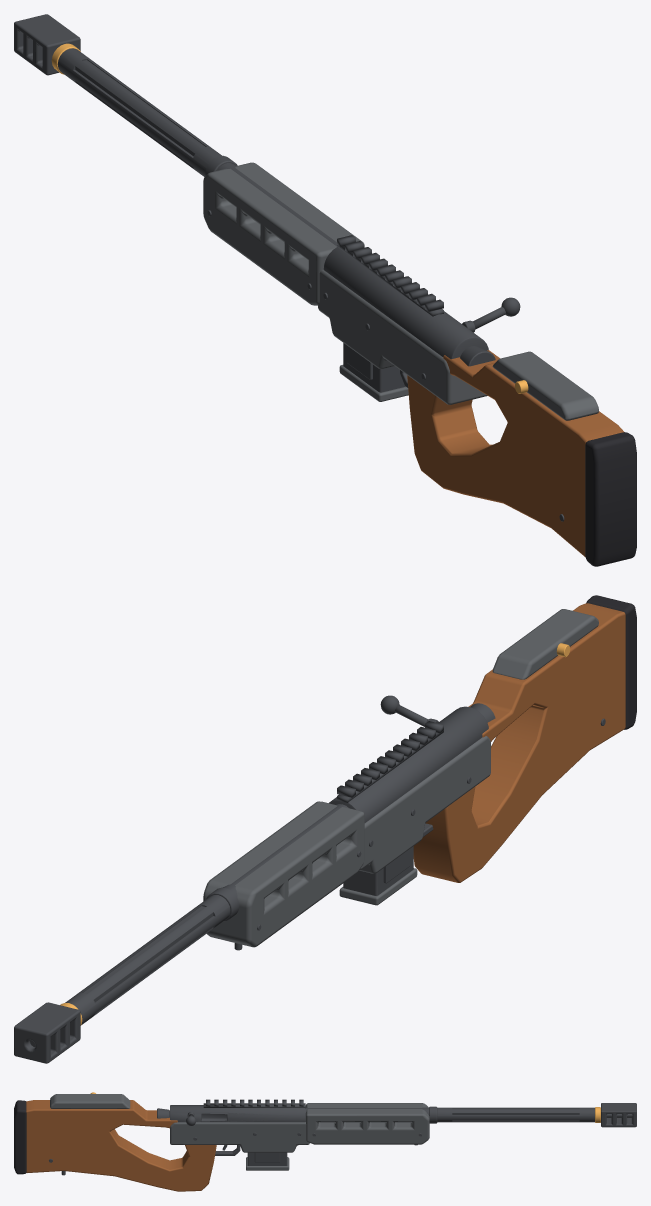
File: longbow.glb
3 views of the same model, one above another, from view 1: azimuth 30°, elevation 25°; view 2: azimuth 150°, elevation 25°; view 3: azimuth 270°, elevation 25° (orthographic). The views are drawn at different scales.
Parts seen in each view (by area): view 1: stock.002, handguard, chassis, buttpad, barrel.002, action, cheekrest, brake.001, rail, mag.001; view 2: stock.002, handguard, chassis, barrel.002, action, cheekrest, brake.001, mag.001, rail, buttpad; view 3: stock.002, handguard, chassis, barrel.002, action, cheekrest, buttpad, brake.001, mag.001, rail.
Part boxes in pixels (x1=…): stock.002: x1=407, y1=350, x2=623, y2=556; handguard: x1=203, y1=162, x2=364, y2=305; chassis: x1=318, y1=269, x2=487, y2=404; buttpad: x1=585, y1=432, x2=636, y2=566; barrel.002: x1=57, y1=48, x2=336, y2=246; action: x1=323, y1=247, x2=488, y2=359; cheekrest: x1=492, y1=351, x2=598, y2=420; brake.001: x1=14, y1=14, x2=80, y2=75; rail: x1=337, y1=235, x2=443, y2=316; mag.001: x1=339, y1=343, x2=408, y2=401; stock.002: x1=413, y1=603, x2=625, y2=882; handguard: x1=203, y1=801, x2=364, y2=947; chassis: x1=359, y1=736, x2=490, y2=873; barrel.002: x1=65, y1=804, x2=348, y2=1024; action: x1=329, y1=706, x2=488, y2=822; cheekrest: x1=492, y1=609, x2=598, y2=679; brake.001: x1=14, y1=1002, x2=80, y2=1063; mag.001: x1=339, y1=846, x2=417, y2=905; rail: x1=337, y1=721, x2=443, y2=802; buttpad: x1=586, y1=595, x2=636, y2=729; stock.002: x1=26, y1=1100, x2=216, y2=1191; handguard: x1=305, y1=1103, x2=429, y2=1144; chassis: x1=170, y1=1122, x2=309, y2=1152; barrel.002: x1=305, y1=1107, x2=594, y2=1122; action: x1=170, y1=1105, x2=305, y2=1122; cheekrest: x1=50, y1=1094, x2=130, y2=1108; buttpad: x1=14, y1=1100, x2=26, y2=1174; brake.001: x1=601, y1=1103, x2=636, y2=1127; mag.001: x1=246, y1=1152, x2=289, y2=1170; rail: x1=203, y1=1099, x2=305, y2=1108.
Size of the model in its own units: 0.136 by 0.232 by 1.47.
